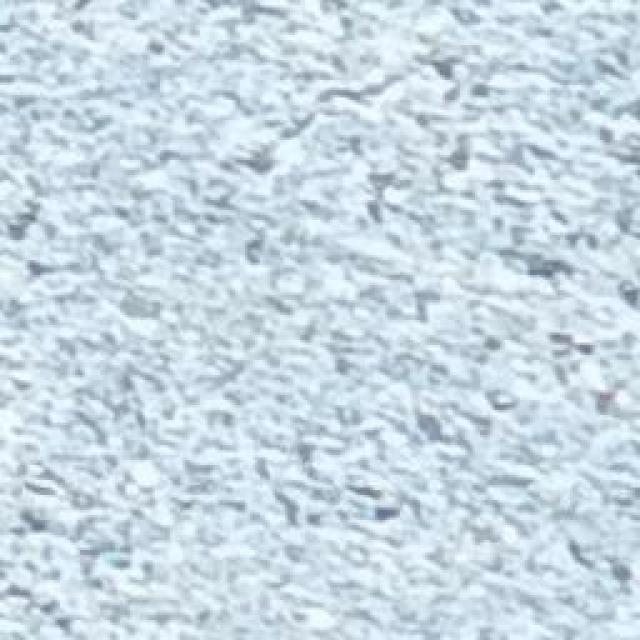concrete-crack: (121, 39, 640, 177)
